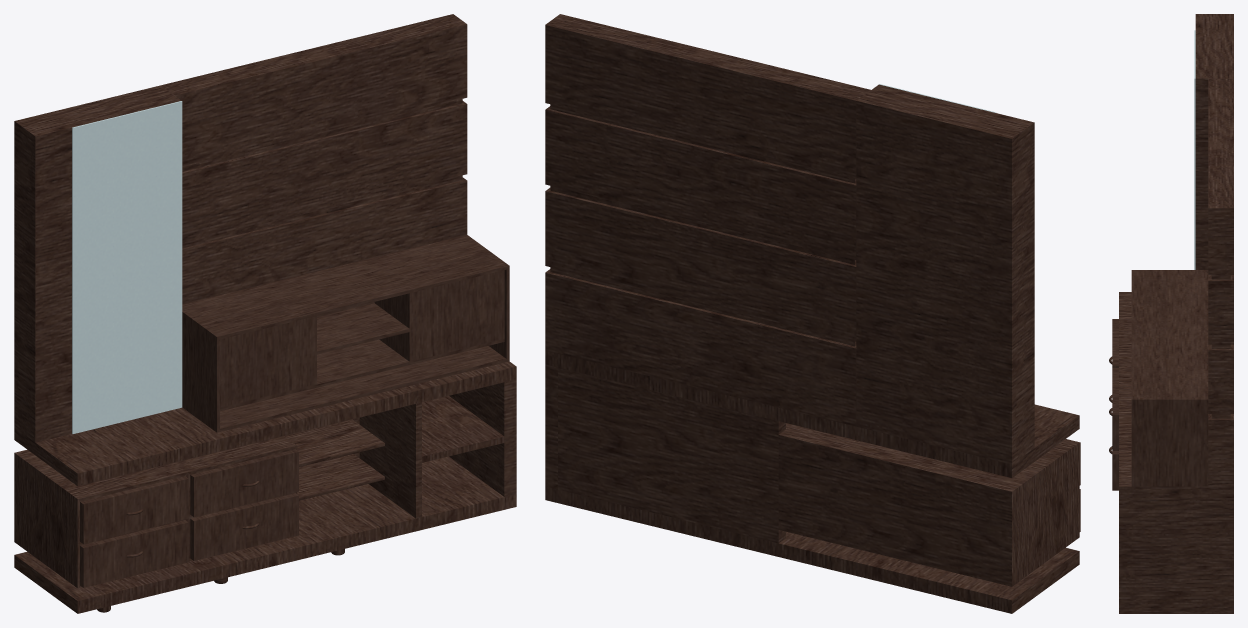
The model's file is tv_wall_cabinet.glb.
3 views of the same model, side by side, from view 1: azimuth 30°, elevation 25°; view 2: azimuth 150°, elevation 25°; view 3: azimuth 270°, elevation 25° (orthographic). The views are drawn at different scales.
Visible parts, largest first — view 1: Object_2, Object_3, Object_4; view 2: Object_2; view 3: Object_2, Object_3, Object_4.
Part boxes in pixels (box(x1,y1,x2,y2)): Object_2: box(14, 14, 516, 613); Object_3: box(80, 235, 509, 587); Object_4: box(72, 101, 182, 433); Object_2: box(545, 14, 1079, 613); Object_2: box(1109, 14, 1233, 613); Object_3: box(1112, 270, 1208, 490); Object_4: box(1194, 30, 1195, 269).
Size of the model in its own units: 1.97 by 1.97 by 0.5353.
Materials: 3 (3 with a texture image).
